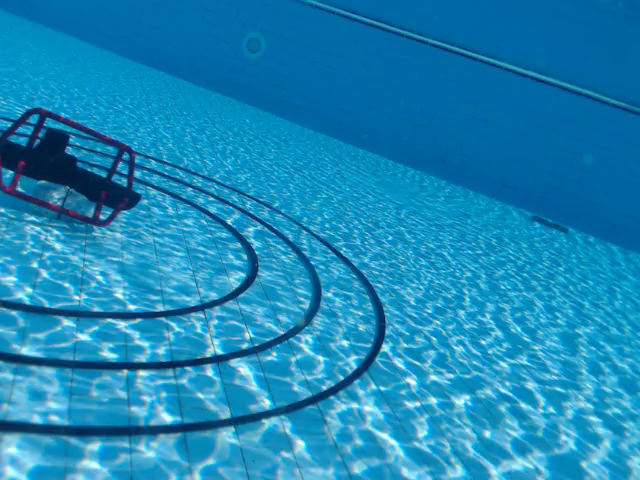submarine: (1, 105, 142, 230)
